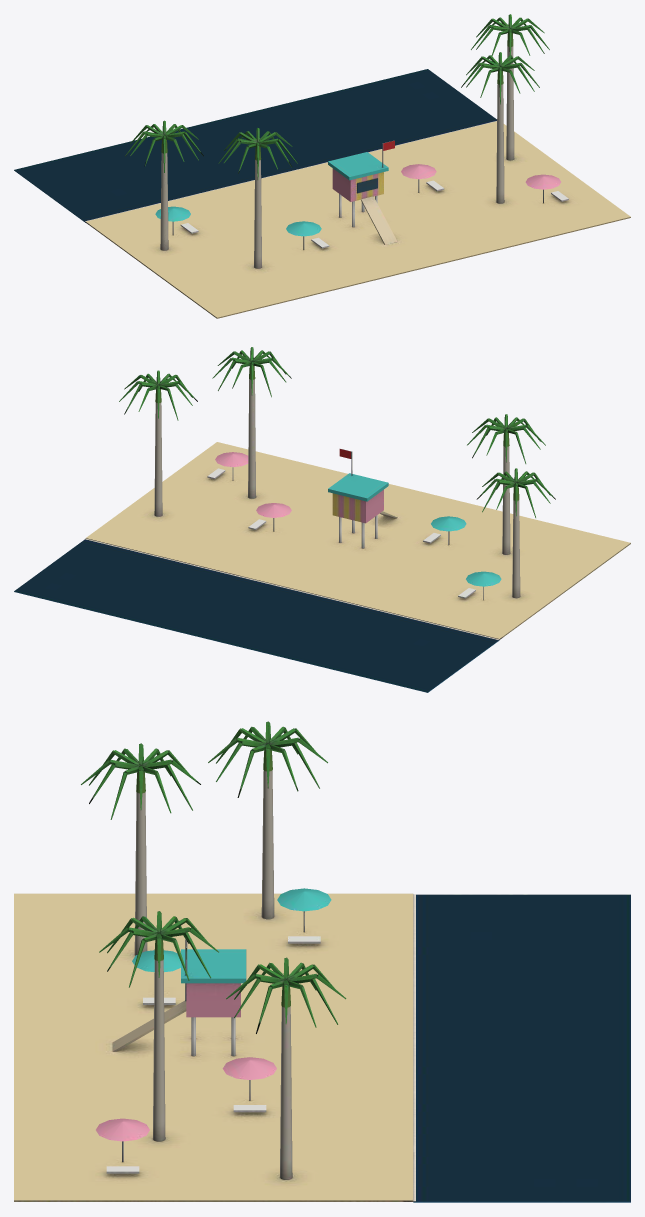
Rendered from playa_socorrista.glb.
3 renders of one model, top to bottom at view 1: azimuth 30°, elevation 25°; view 2: azimuth 150°, elevation 25°; view 3: azimuth 270°, elevation 25°, orthographic. The views are drawn at different scales.
Visible parts, largest first — view 1: playa_socorrista; view 2: playa_socorrista; view 3: playa_socorrista.
Part boxes in pixels (x1,y1,x2,y2): playa_socorrista: [14, 14, 630, 318]; playa_socorrista: [14, 347, 630, 692]; playa_socorrista: [14, 721, 630, 1202].
Bounding box in the file's own units: 40.64 × 13.2 × 34.
1 material, 1 textured.
